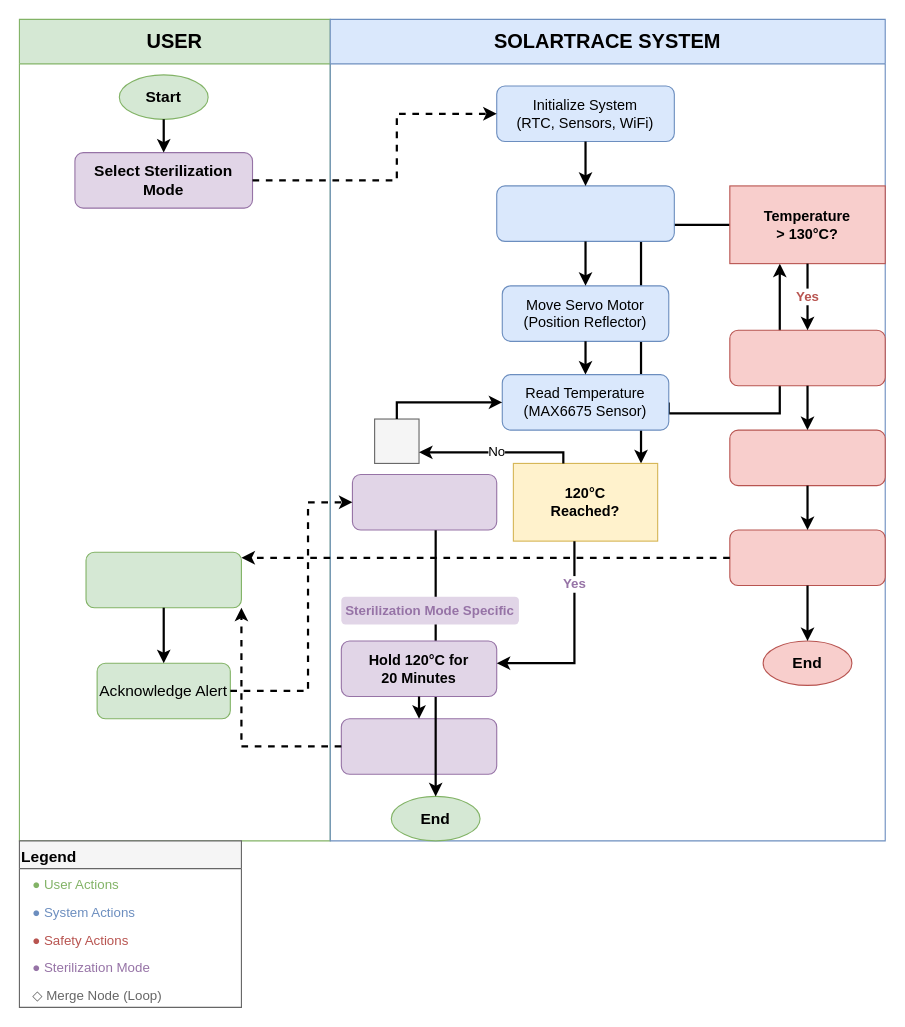
The diagram is 905 pixels wide and 1027 high, and some of its shapes have lost their labels. Each missing label, with the centre of its shape:
Calculate Sun Position (RTC-based): pixel 585 213
Engage Safety Mode (Stop Heating): pixel 807 357
Log Sterilization Session Data (SD Card): pixel 424 501
Move Reflector to Idle Position: pixel 807 457
Receive Alert (Sterilization Done): pixel 163 579
Send Emergency Alert to User: pixel 807 557
Send Sterilization Completion Alert: pixel 418 746
